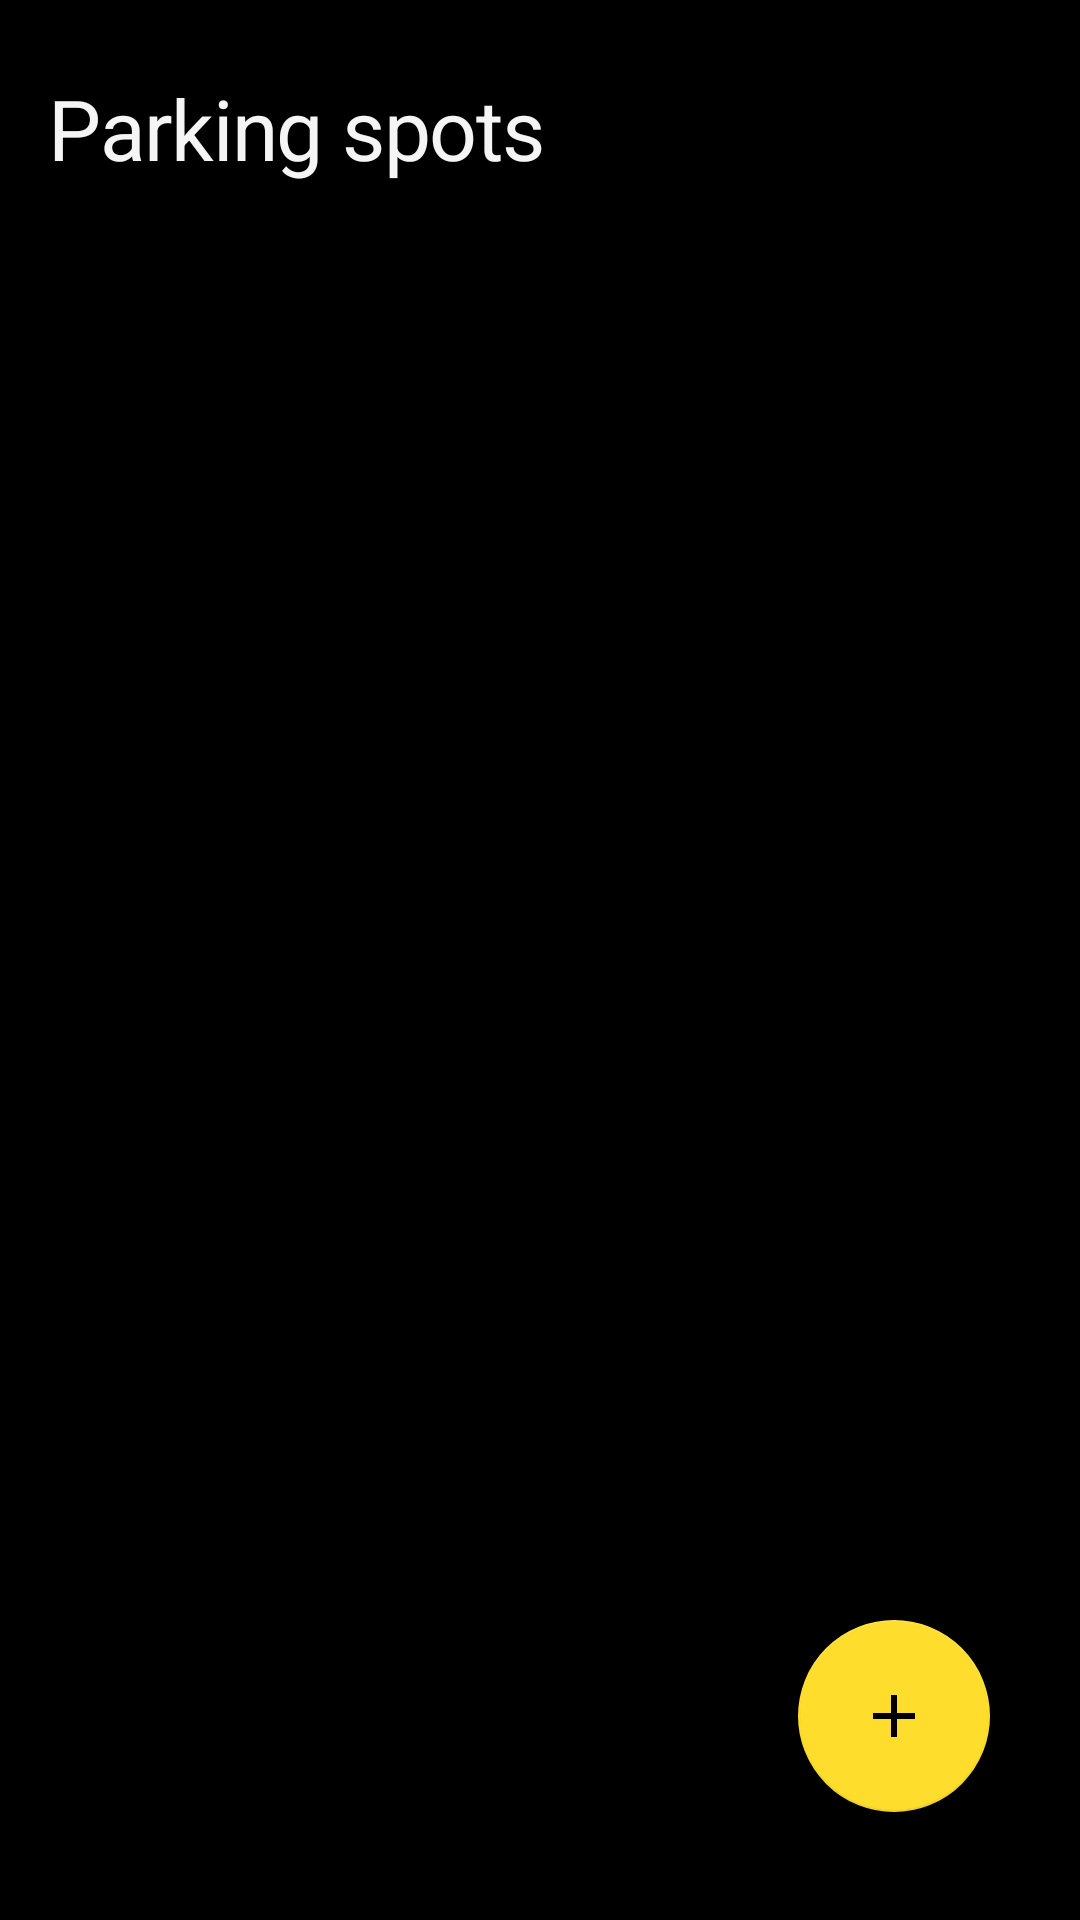

Named icons in this screenshot (1080 x 1920) and their bounding boxes, (x1, y1, x2, y2):
Add spot button: (798, 1620, 990, 1812)
